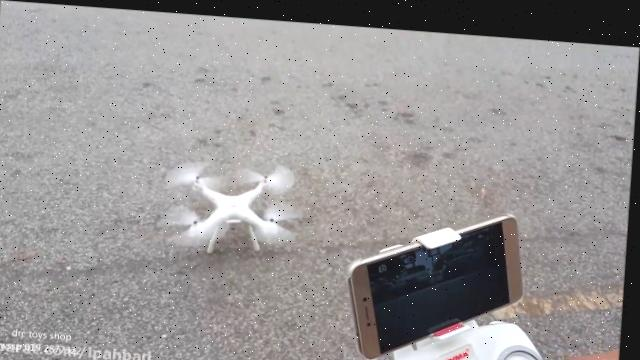drone: (161, 153, 311, 256)
